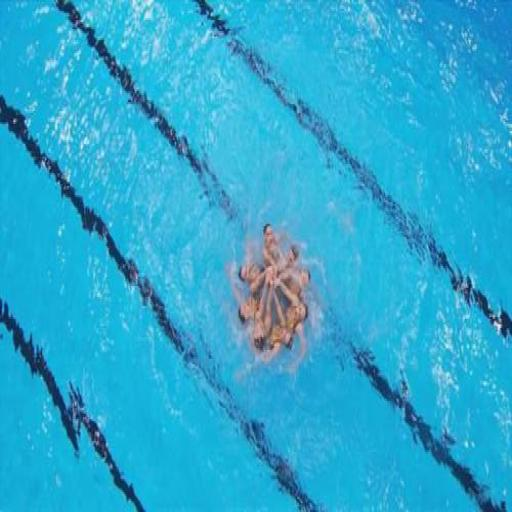swimming: (234, 220, 312, 362)
